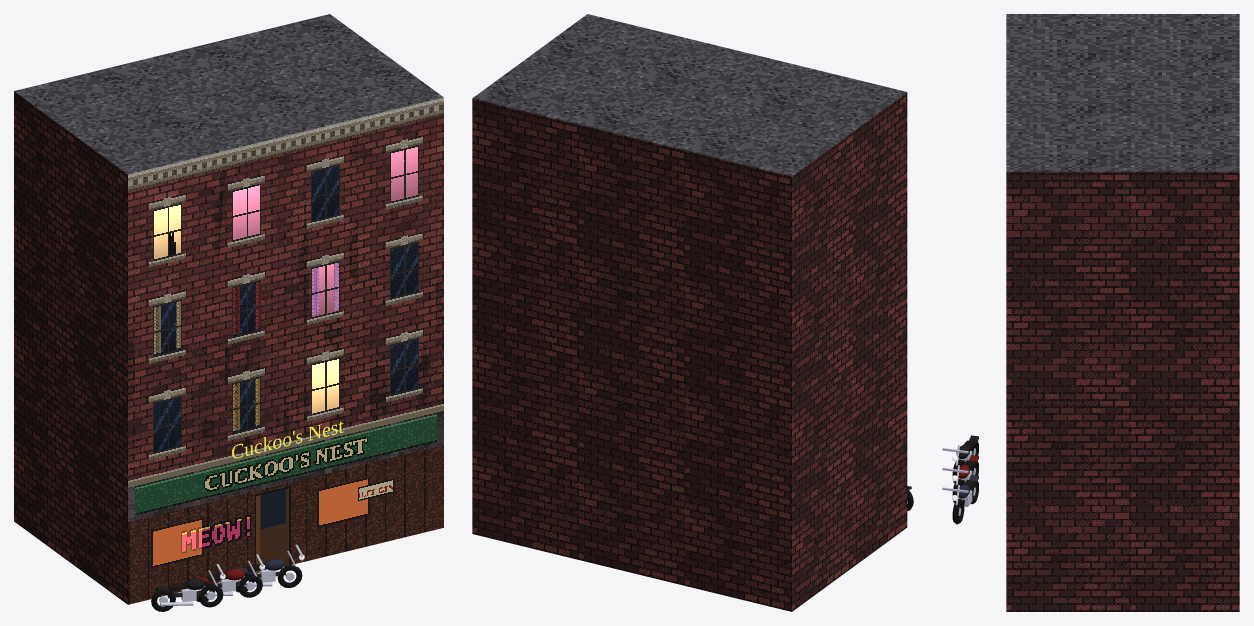
The model's file is Bar.glb.
3 views of the same model, side by side, from view 1: azimuth 30°, elevation 25°; view 2: azimuth 150°, elevation 25°; view 3: azimuth 270°, elevation 25° (orthographic). The views are drawn at different scales.
Visible parts, largest first — view 1: Bar; view 2: Bar; view 3: Bar.
Boxes of the visible parts, box(x1,y1,x2,y2) form: Bar: box(14, 14, 443, 611); Bar: box(472, 14, 913, 611); Bar: box(942, 14, 1239, 611).
Bounding box in the file's own units: 12 × 15.62 × 9.55.
23 materials, 5 textured.
